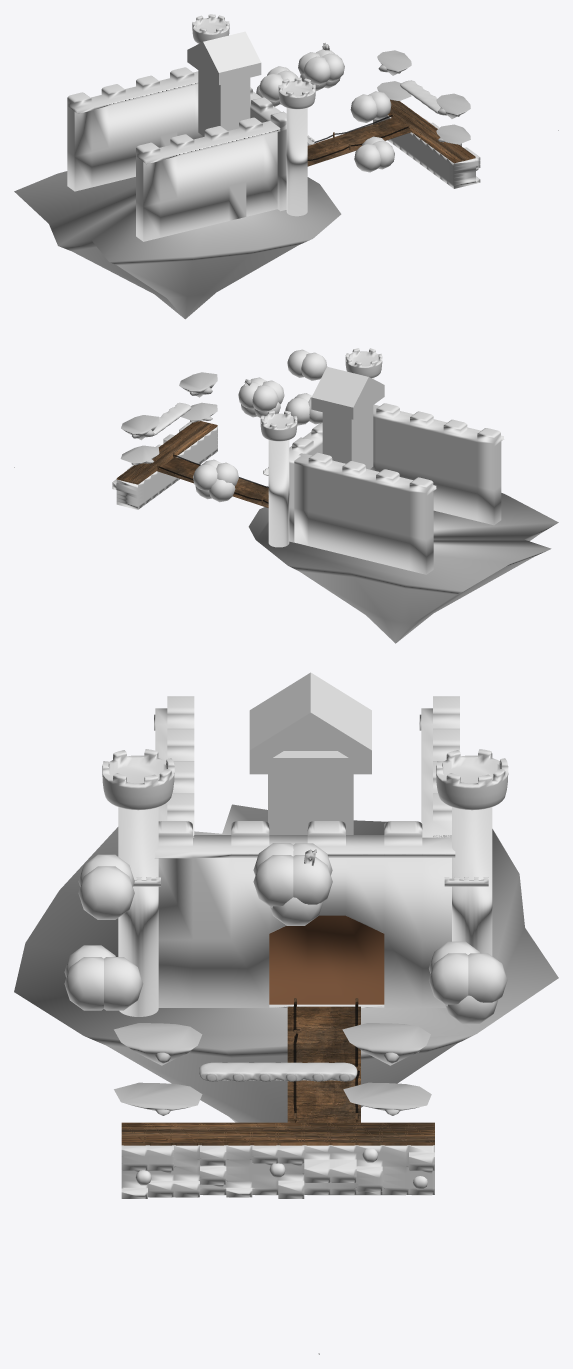
The model's file is map1cleanup.fbx.
3 renders of one model, top to bottom at view 1: azimuth 30°, elevation 25°; view 2: azimuth 150°, elevation 25°; view 3: azimuth 270°, elevation 25°, orthographic. The views are drawn at different scales.
Parts seen in each view (by area): view 1: Cube.003, Vert; view 2: Cube.003, Vert; view 3: Cube.003, Vert.
Part boxes in pixels (x1,y1,x2,y2): Cube.003: (67,14,558,241); Vert: (14,171,341,319); Cube.003: (14,348,503,574); Vert: (248,493,558,643); Cube.003: (64,672,508,1354); Vert: (14,804,558,1122).
Bounding box in the file's own units: 19982 × 9805 × 9312.
